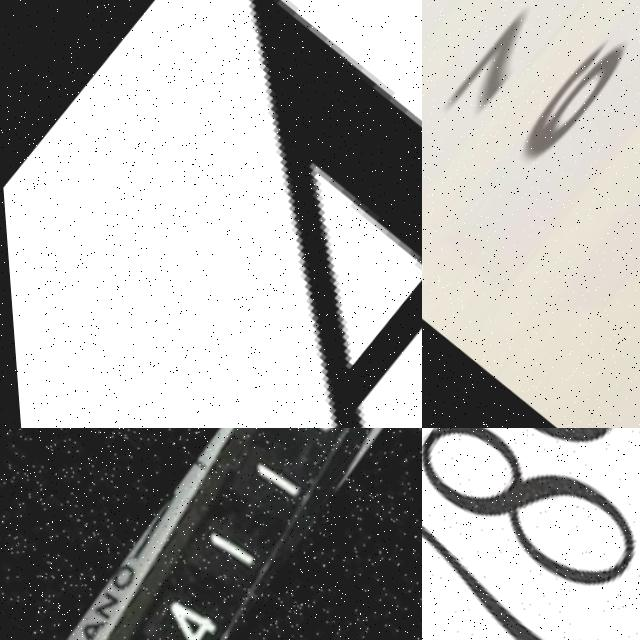0: (270, 428, 345, 447)
1: (188, 521, 255, 585), (235, 452, 302, 516)
4: (139, 590, 213, 640)
6: (485, 10, 640, 183), (422, 556, 533, 640)
7: (422, 468, 608, 640), (424, 0, 561, 136)
8: (422, 428, 640, 640)
9: (434, 428, 640, 554)
A: (0, 0, 422, 428)
